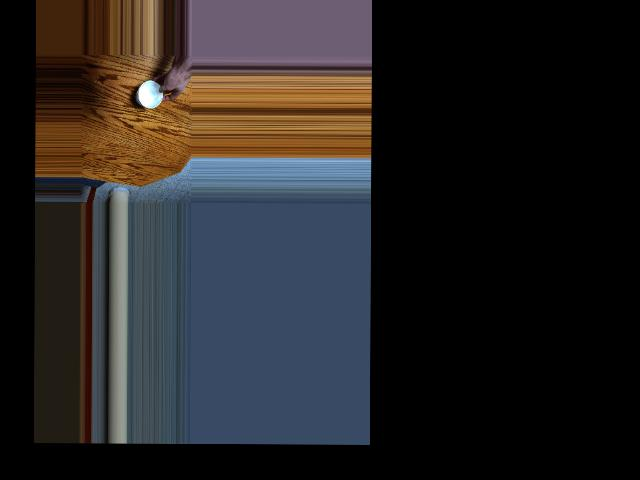cotage: (136, 80, 164, 113)
